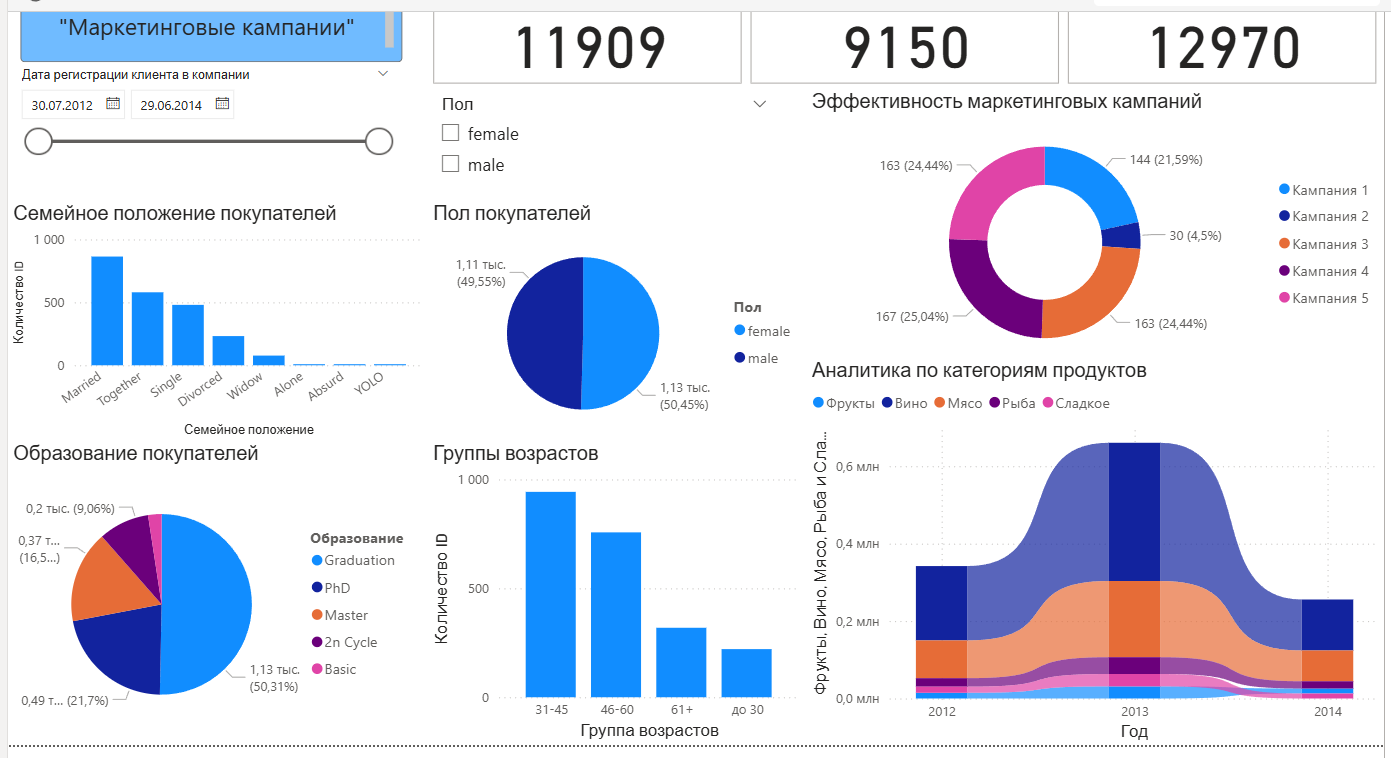

The page's visual inventory and layout, read from the dashboard file:
{"tool":"powerbi","page":{"name":"Страница 1","canvas":[1280,720],"ordinal":0},"visuals":[{"type":"pieChart","title":"Пол покупателей","fields":{"Category":["store.Пол"],"Y":["CountNonNull(store.ID)"]},"box":[391.2,215,351.2,223.8],"z":0},{"type":"clusteredColumnChart","title":"Группы возрастов","fields":{"Category":["store.Группа возрастов"],"Y":["CountNonNull(store.ID)"]},"box":[391.2,438.8,351.2,281.2],"z":1000},{"type":"pieChart","title":"Образование покупателей","fields":{"Category":["store.Образование"],"Y":["CountNonNull(store.ID)"]},"box":[0,438.8,391.2,281.2],"z":2000},{"type":"clusteredColumnChart","title":"Семейное положение покупателей","fields":{"Category":["store.Семейное положение"],"Y":["CountNonNull(store.ID)"]},"box":[0,215,391.2,223.8],"z":3000},{"type":"donutChart","title":"Эффективность маркетинговых кампаний","fields":{"Y":["Sum(marketing_campaign.Кампания 1)","Sum(marketing_campaign.Кампания 2)","Sum(marketing_campaign.Кампания 3)","Sum(marketing_campaign.Кампания 4)","Sum(marketing_campaign.Кампания 5)"]},"box":[742.5,110,537.5,263.8],"z":4000},{"type":"textbox","box":[11.2,0,355,85],"z":5000},{"type":"cardVisual","fields":{"Data":["Sum(marketing_campaign.Кол-во посещение сайта)","Sum(marketing_campaign.Кол-во покупок через сайт)","Sum(marketing_campaign.Кол-во покупок в магазине)"]},"box":[391.2,0,888.8,110],"z":6000},{"type":"ribbonChart","title":"Аналитика по категориям продуктов","fields":{"Y":["Sum(marketing_campaign.Фрукты)","Sum(marketing_campaign.Вино)","Sum(marketing_campaign.Мясо)","Sum(marketing_campaign.Рыба)","Sum(marketing_campaign.Сладкое)"],"Category":["store.Дата регистрации клиента в компании.Изменение.Иерархия дат.Год"]},"box":[742.5,360,537.5,360],"z":7000},{"type":"slicer","fields":{"Values":["store.Пол"]},"box":[391.2,110,327.5,105],"z":8000},{"type":"slicer","fields":{"Values":["store.Дата регистрации клиента в компании"]},"box":[0,85,366.2,130],"z":9000}]}

Visuals, with their boxes in screenshot pixels (x1, y1, x2, y2):
"Пол покупателей" pieChart: [x1=522, y1=212, x2=886, y2=444]
"Группы возрастов" clusteredColumnChart: [x1=522, y1=444, x2=886, y2=736]
"Образование покупателей" pieChart: [x1=116, y1=444, x2=522, y2=736]
"Семейное положение покупателей" clusteredColumnChart: [x1=116, y1=212, x2=522, y2=444]
"Эффективность маркетинговых кампаний" donutChart: [x1=886, y1=103, x2=1390, y2=377]
textbox: [x1=128, y1=0, x2=496, y2=77]
cardVisual - Sum(marketing_campaign.Кол-во посещение сайта) x Sum(marketing_campaign.Кол-во покупок через сайт): [x1=522, y1=0, x2=1390, y2=103]
"Аналитика по категориям продуктов" ribbonChart: [x1=886, y1=362, x2=1390, y2=736]
slicer - store.Пол: [x1=522, y1=103, x2=861, y2=212]
slicer - store.Дата регистрации клиента в компании: [x1=116, y1=77, x2=496, y2=212]
